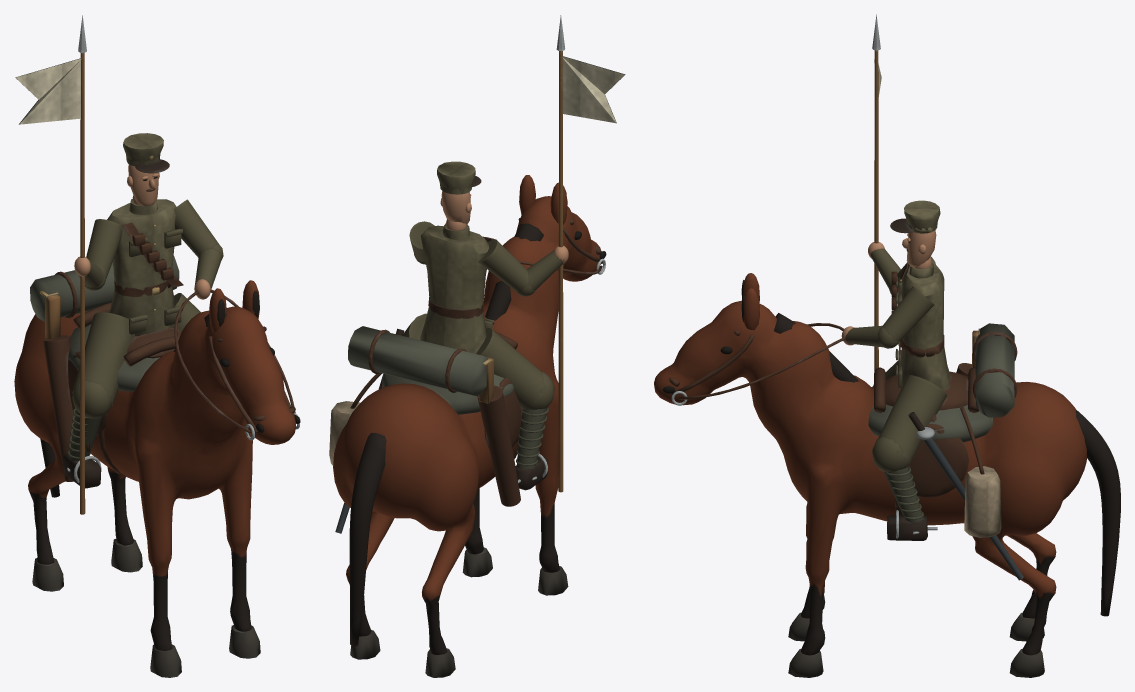
The picture shows the model from 3 angles, left to right: view 1: azimuth 30°, elevation 25°; view 2: azimuth 150°, elevation 25°; view 3: azimuth 270°, elevation 25°; orthographic projection. The views are drawn at different scales.
Visible parts, largest first — view 1: Horse_continuous_anatomy, Service_dress_tunic, Plain_swallowtail_pennon, Riding_breeches_thigh_R, Rolled_cloak, Leather_rifle_holster, Lance_ash_shaft, Upper_sleeve_R, Upper_sleeve_L, Khaki_saddle_blanket, Breeches_knee_R, Peaked_service_cap (+16 smaller); view 2: Horse_continuous_anatomy, Service_dress_tunic, Rolled_cloak, Long_black_tail, Plain_swallowtail_pennon, Leather_rifle_holster, Riding_breeches_thigh_R, Lance_ash_shaft, Upper_sleeve_R, Khaki_saddle_blanket, Puttee_R, Black_cropped_mane (+13 smaller); view 3: Horse_continuous_anatomy, Service_dress_tunic, Long_black_tail, Rolled_cloak, Riding_breeches_thigh_L, Saddle_flap_L, Canvas_nosebag, Khaki_saddle_blanket, Lance_ash_shaft, Upper_sleeve_L, Leather_saddle_seat, Puttee_L (+7 smaller).
Part boxes in pixels (bbox=[...]): Horse_continuous_anatomy: bbox=[14, 306, 295, 650]; Service_dress_tunic: bbox=[107, 199, 176, 336]; Plain_swallowtail_pennon: bbox=[15, 58, 81, 124]; Riding_breeches_thigh_R: bbox=[72, 312, 134, 405]; Rolled_cloak: bbox=[30, 256, 179, 321]; Leather_rifle_holster: bbox=[43, 335, 74, 481]; Lance_ash_shaft: bbox=[80, 52, 85, 514]; Upper_sleeve_R: bbox=[86, 219, 122, 278]; Upper_sleeve_L: bbox=[174, 199, 218, 257]; Khaki_saddle_blanket: bbox=[68, 324, 159, 391]; Breeches_knee_R: bbox=[72, 380, 111, 418]; Peaked_service_cap: bbox=[123, 133, 163, 164]; Horse_continuous_anatomy: bbox=[333, 196, 600, 654]; Service_dress_tunic: bbox=[420, 225, 488, 353]; Rolled_cloak: bbox=[348, 326, 488, 396]; Long_black_tail: bbox=[349, 433, 386, 646]; Plain_swallowtail_pennon: bbox=[562, 56, 625, 123]; Leather_rifle_holster: bbox=[477, 385, 520, 506]; Riding_breeches_thigh_R: bbox=[476, 328, 545, 409]; Lance_ash_shaft: bbox=[558, 51, 563, 492]; Upper_sleeve_R: bbox=[478, 239, 529, 291]; Khaki_saddle_blanket: bbox=[382, 373, 513, 414]; Puttee_R: bbox=[516, 407, 547, 469]; Black_cropped_mane: bbox=[485, 223, 543, 320]; Horse_continuous_anatomy: bbox=[654, 300, 1087, 655]; Service_dress_tunic: bbox=[900, 261, 950, 391]; Long_black_tail: bbox=[1076, 410, 1120, 616]; Rolled_cloak: bbox=[975, 323, 1014, 417]; Riding_breeches_thigh_L: bbox=[878, 375, 947, 464]; Saddle_flap_L: bbox=[908, 423, 968, 497]; Canvas_nosebag: bbox=[964, 466, 1001, 537]; Khaki_saddle_blanket: bbox=[868, 386, 992, 442]; Lance_ash_shaft: bbox=[874, 50, 878, 371]; Upper_sleeve_L: bbox=[882, 286, 933, 341]; Leather_saddle_seat: bbox=[886, 371, 968, 410]; Puttee_L: bbox=[884, 466, 923, 522].
Bounding box in the file's own units: 1.56 × 3.81 × 2.68.
1 material, 1 textured.
